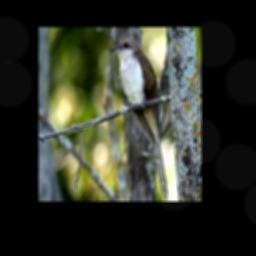Cuckoo: (110, 37, 167, 199)
